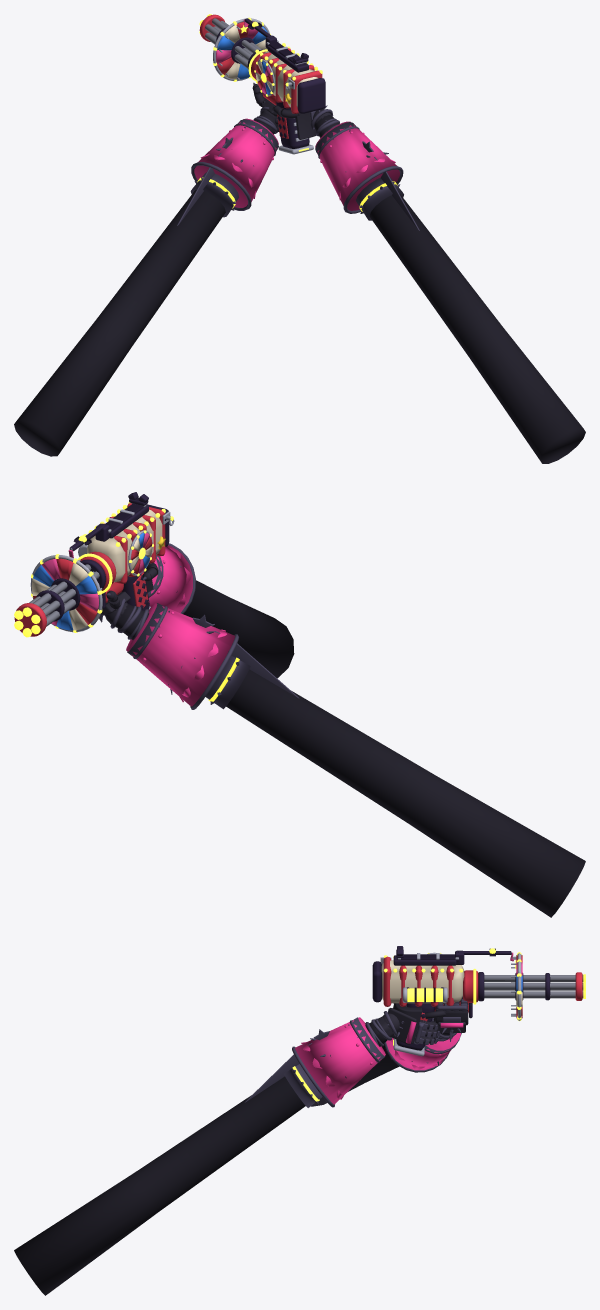
Rendered from whirligig.glb.
3 views of the same model, one above another, from view 1: azimuth 30°, elevation 25°; view 2: azimuth 150°, elevation 25°; view 3: azimuth 270°, elevation 25° (orthographic). The views are drawn at different scales.
Visible parts, largest first — view 1: ArmR, ArmL, Shell, ArmRKitBell, ArmLKitBell, Barrels, Wheel; view 2: ArmL, ArmLKitBell, Barrels, Shell, ArmR, ArmRKitBell, Wheel, ArmLKitFins; view 3: ArmR, Shell, ArmRKitBell, Barrels, ArmLKitBell, ArmL, Cell, ArmRKitGauntlet, ArmRKitMitten, ArmRKitFins.
Boxes of the visible parts, x1,y1,x2,y2 form: ArmR: (272, 105, 585, 463); ArmL: (14, 84, 278, 456); Shell: (244, 18, 325, 154); ArmRKitBell: (315, 121, 403, 213); ArmLKitBell: (191, 118, 278, 210); Barrels: (199, 14, 270, 81); Wheel: (254, 59, 275, 96); ArmL: (101, 590, 585, 917); ArmLKitBell: (126, 603, 238, 709); Barrels: (14, 554, 105, 637); Shell: (69, 502, 174, 627); ArmR: (142, 563, 294, 678); ArmRKitBell: (148, 543, 195, 613); Wheel: (128, 530, 153, 576); ArmLKitFins: (99, 614, 299, 698); ArmR: (14, 1003, 451, 1295); Shell: (372, 950, 511, 1056); ArmRKitBell: (292, 1017, 385, 1107); Barrels: (478, 952, 585, 1021); ArmLKitBell: (384, 1033, 460, 1072); ArmL: (311, 997, 468, 1106); Cell: (402, 987, 447, 1002); ArmRKitGauntlet: (344, 1008, 440, 1064); ArmRKitMitten: (388, 1008, 416, 1044); ArmRKitFins: (244, 1018, 402, 1102).
Bounding box in the file's own units: 1.6 × 1.07 × 1.82.
